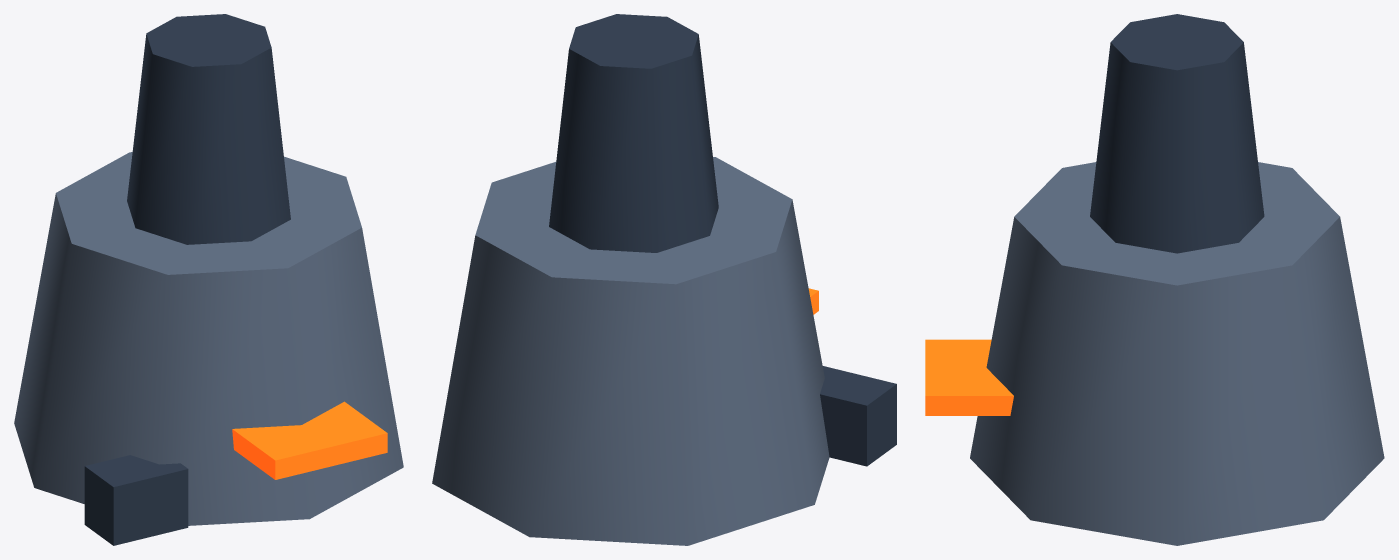
File: iron_forge.glb
The picture shows the model from 3 angles, left to right: view 1: azimuth 30°, elevation 25°; view 2: azimuth 150°, elevation 25°; view 3: azimuth 270°, elevation 25°; orthographic projection. The views are drawn at different scales.
Parts seen in each view (by area): view 1: Iron_Forge; view 2: Iron_Forge; view 3: Iron_Forge.
Part boxes in pixels (left/top/right/bottom): Iron_Forge: left=14, top=14, right=403, bottom=545; Iron_Forge: left=432, top=14, right=896, bottom=545; Iron_Forge: left=925, top=14, right=1384, bottom=545.
Bounding box in the file's own units: 5.6 × 6.2 × 6.2.
